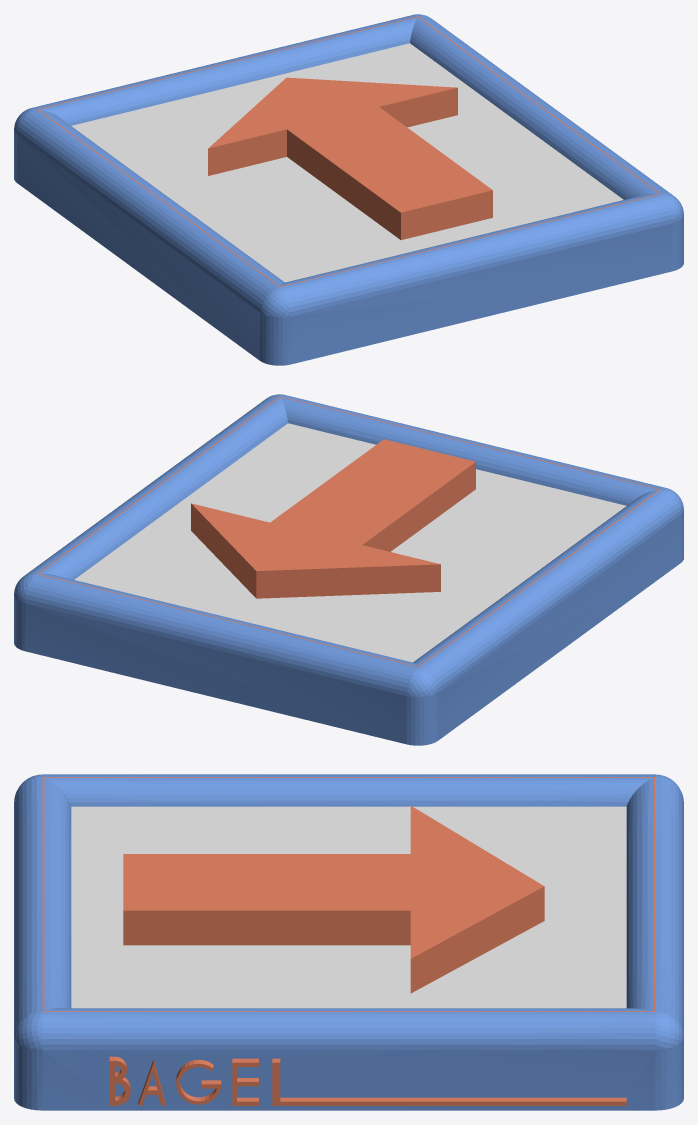
The model's file is robotmodel.glb.
3 views of the same model, one above another, from view 1: azimuth 30°, elevation 25°; view 2: azimuth 150°, elevation 25°; view 3: azimuth 270°, elevation 25° (orthographic). The views are drawn at different scales.
Parts seen in each view (by area): view 1: robotmodel; view 2: robotmodel; view 3: robotmodel.
Boxes of the visible parts, x1,y1,x2,y2 form: robotmodel: (14,14,683,365); robotmodel: (14,394,683,745); robotmodel: (14,774,683,1110).
Bounding box in the file's own units: 0.8255 × 0.1524 × 0.889.
